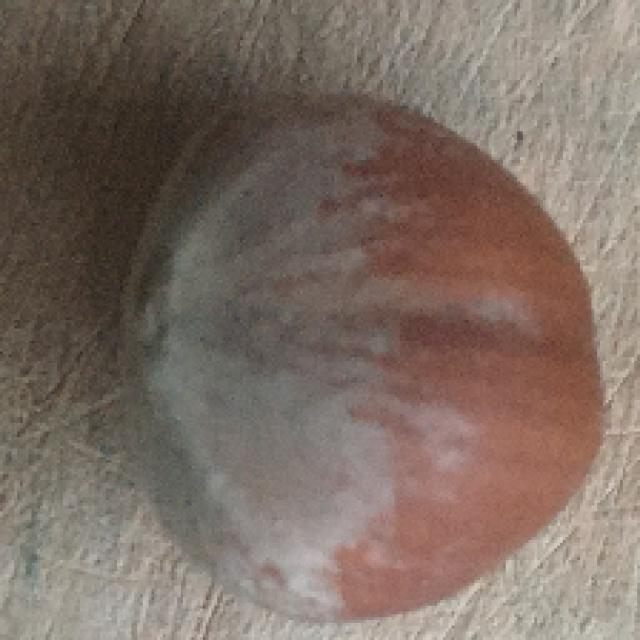qualityHazelnut: (103, 78, 609, 616)
